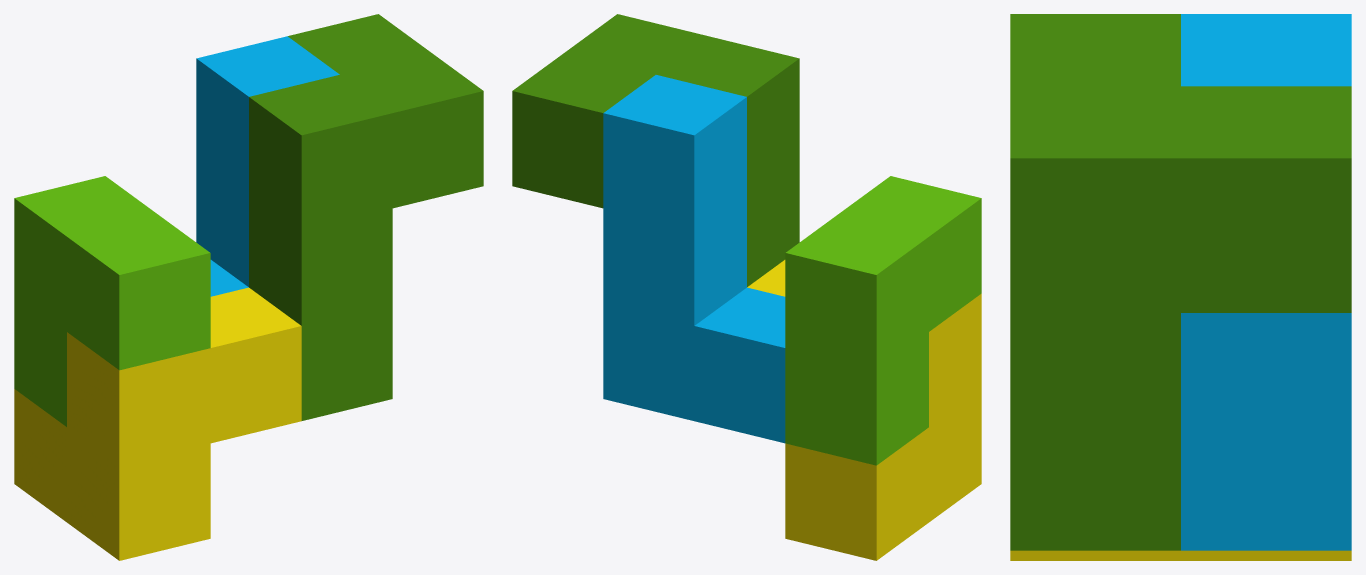
3 views of the same model, side by side, from view 1: azimuth 30°, elevation 25°; view 2: azimuth 150°, elevation 25°; view 3: azimuth 270°, elevation 25° (orthographic). The views are drawn at different scales.
Visible parts, largest first — view 1: mergedBlocks(Clone); view 2: mergedBlocks(Clone); view 3: mergedBlocks(Clone).
Part boxes in pixels (x1,y1,x2,y2): mergedBlocks(Clone): [14, 14, 483, 560]; mergedBlocks(Clone): [512, 14, 981, 560]; mergedBlocks(Clone): [1010, 14, 1351, 560].
Bounding box in the file's own units: 4 × 4 × 2.
4 materials, 4 textured.
